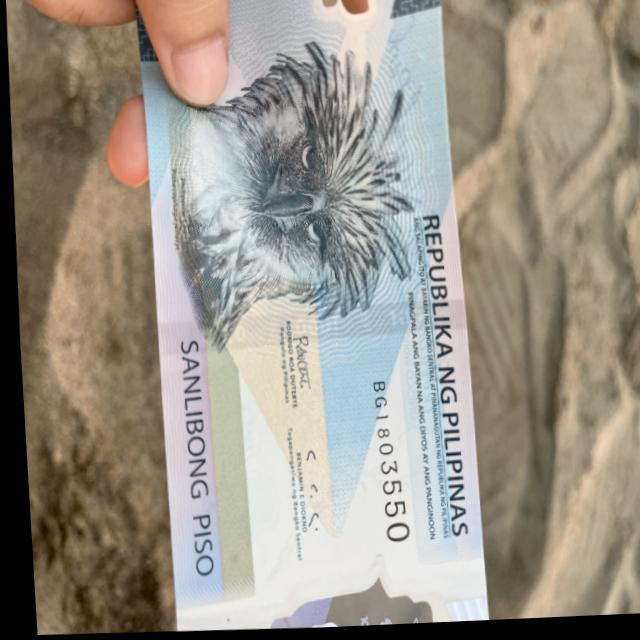eagle: (164, 41, 421, 357)
